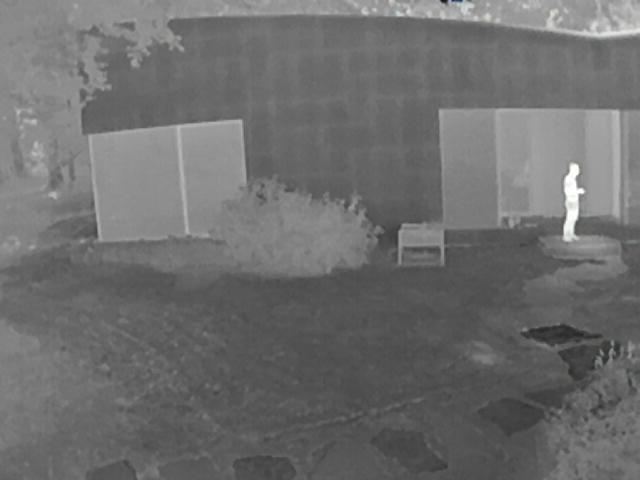person: (561, 162, 582, 243)
